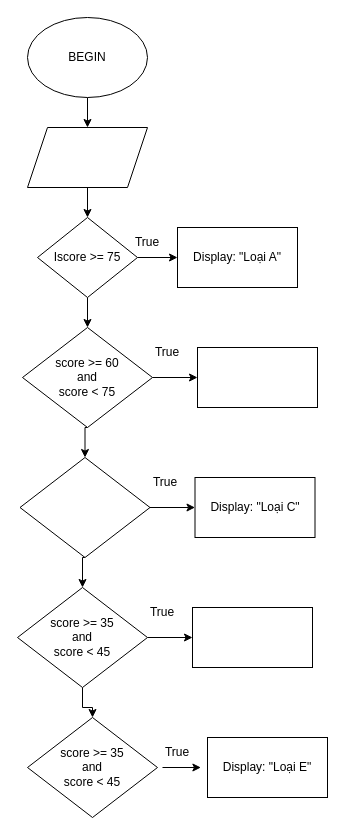
Image size: 345x835. Some labels were removed from this diagram. Here are the shapes that lost their labels. From the top down, the box of each, then its label:
(26, 126, 148, 188): Input score
(196, 346, 318, 408): Display: "Loại B"
(19, 456, 150, 558): score >= 45 and score < 60
(192, 606, 312, 668): Display: "Loại D"
